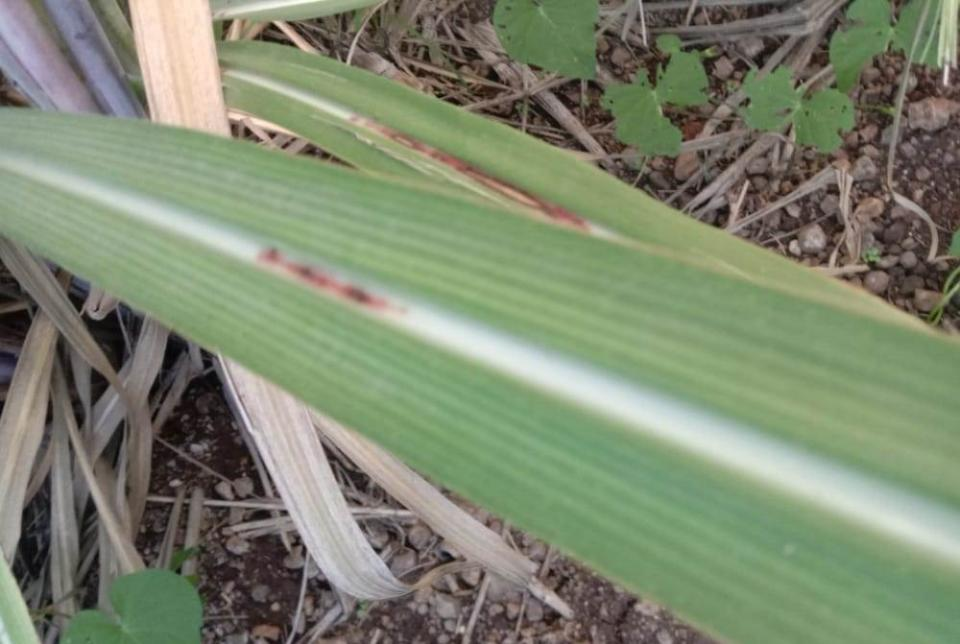RedRot: (350, 116, 590, 232), (254, 245, 409, 316)
